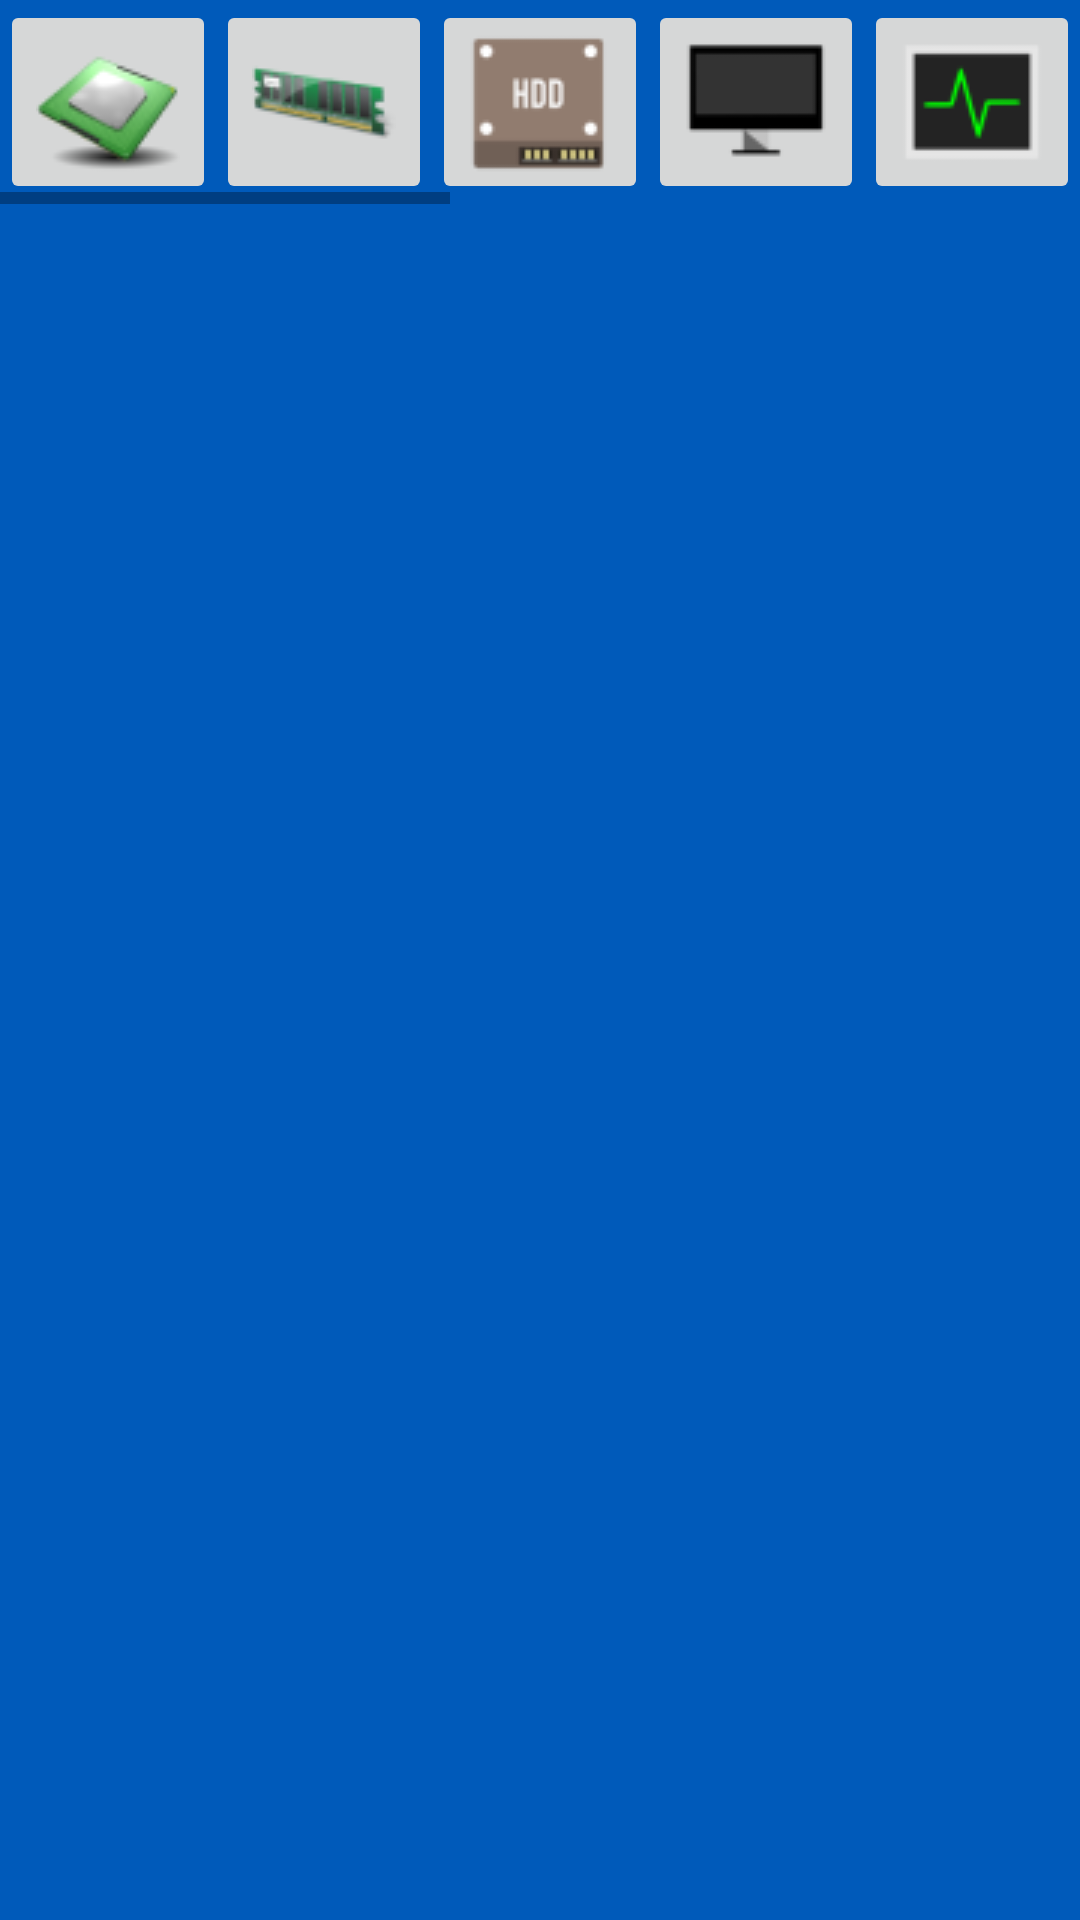

Screen size 1080px x 1920px. Icon name, then its center in pixels as (x=x, y=y):
CPU Info: (x=108, y=102)
Display: (x=756, y=102)
Memory: (x=324, y=102)
OS Disc: (x=540, y=102)
Sensors: (x=972, y=102)
